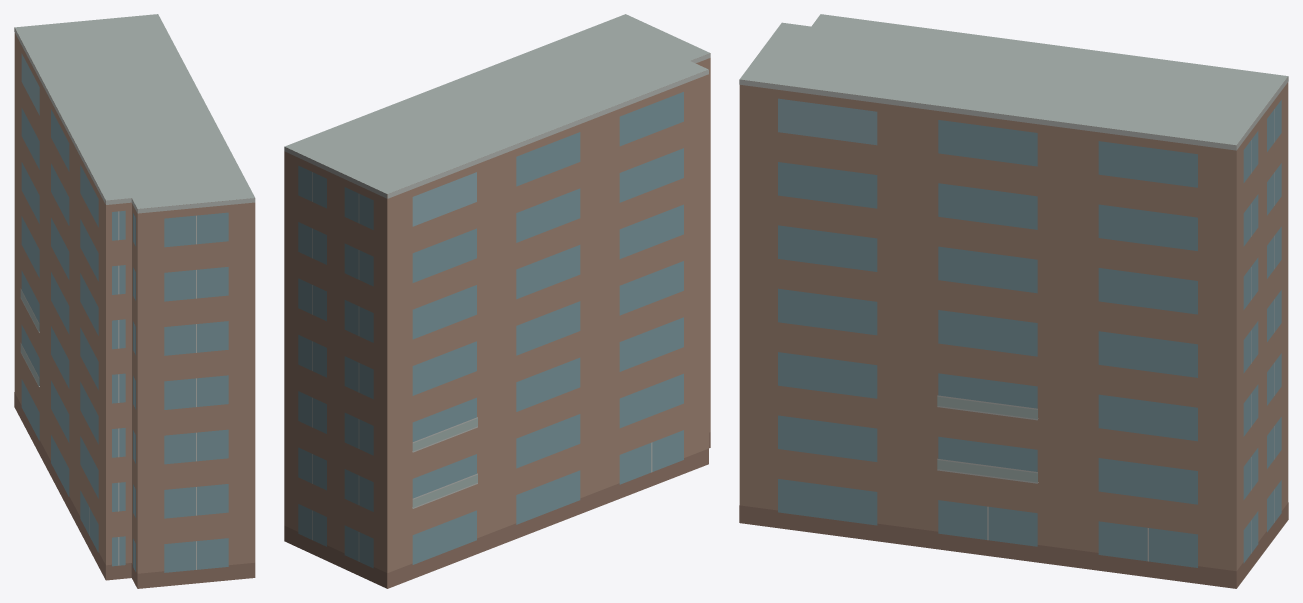
The model's file is survey-upis-32528333.glb.
The picture shows the model from 3 angles, left to right: view 1: azimuth 30°, elevation 25°; view 2: azimuth 150°, elevation 25°; view 3: azimuth 270°, elevation 25°; orthographic projection. The views are drawn at different scales.
Visible parts, largest first — view 1: survey-upis-32528333.tmp; view 2: survey-upis-32528333.tmp; view 3: survey-upis-32528333.tmp.
Part boxes in pixels (box(x1,y1,x2,y2)): survey-upis-32528333.tmp: box(14, 14, 255, 588); survey-upis-32528333.tmp: box(284, 14, 710, 588); survey-upis-32528333.tmp: box(739, 14, 1288, 588).
Bounding box in the file's own units: 13.02 × 20.5 × 23.
